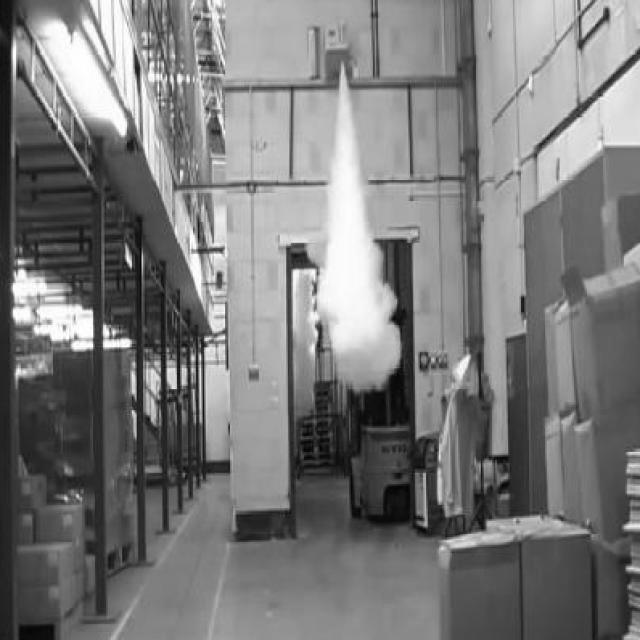fire: (318, 109, 404, 399)
